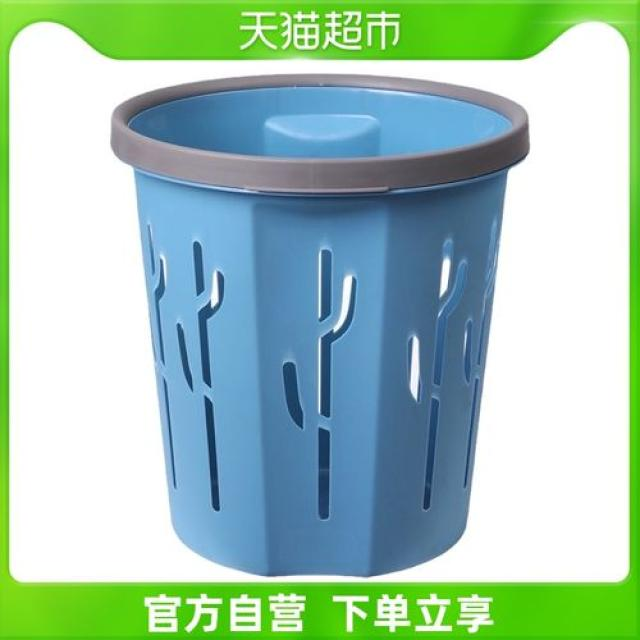dustbin: (108, 69, 533, 582)
